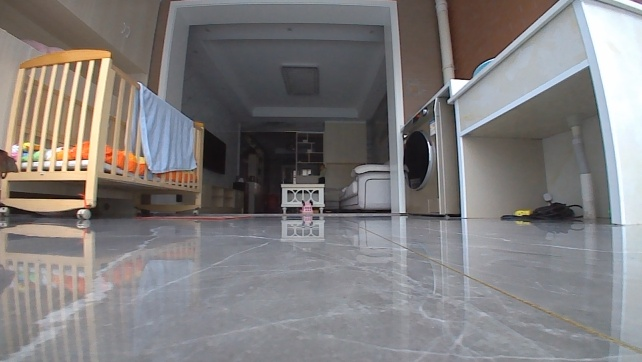TV_stand: (200, 181, 246, 212)
blanket: (138, 212, 252, 221)
sofa: (323, 161, 390, 213)
tea_table: (278, 181, 326, 214)
washing_machine: (399, 94, 460, 219)
wire: (495, 200, 584, 224)
